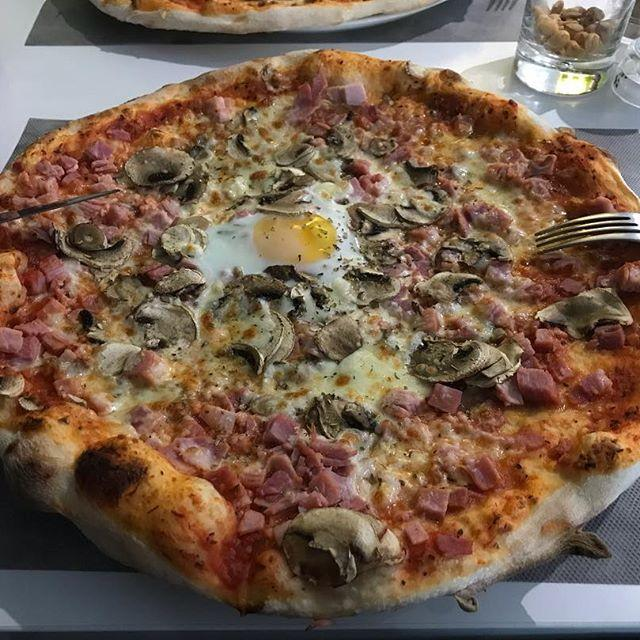champignon: (285, 510, 379, 585), (412, 333, 490, 383), (63, 222, 138, 272), (132, 303, 203, 354), (122, 146, 197, 188)
